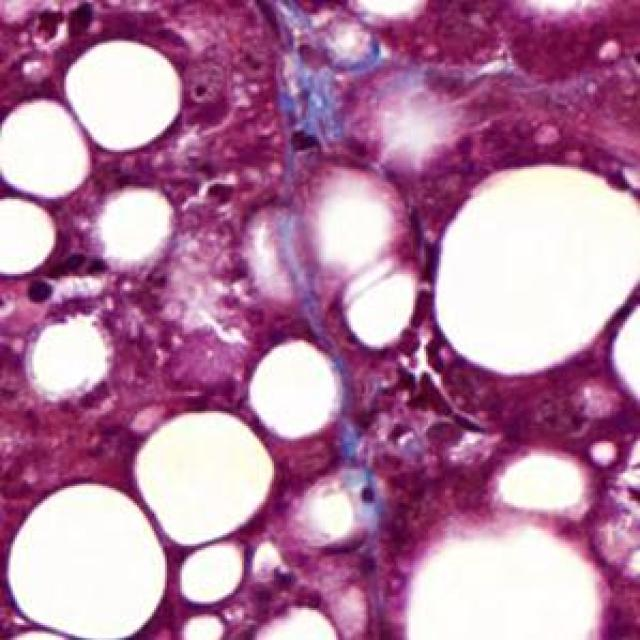steatosis: (8, 479, 174, 640), (131, 411, 278, 548), (66, 36, 182, 152), (0, 197, 54, 276)
